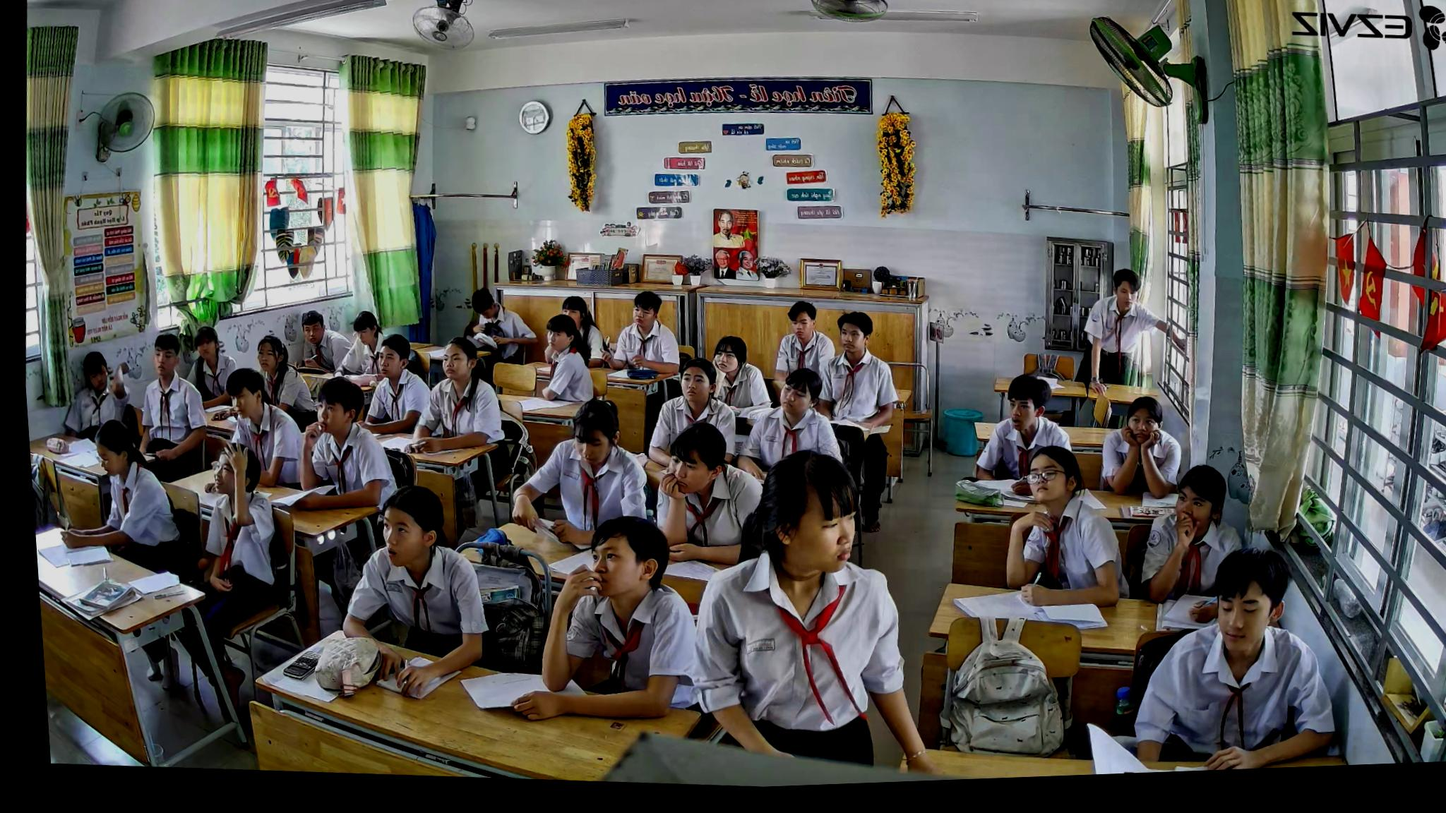person: (669, 437, 964, 787), (1115, 534, 1351, 773), (497, 505, 712, 734), (159, 438, 307, 720), (326, 477, 505, 697), (46, 413, 212, 590), (799, 307, 914, 536), (499, 393, 659, 554), (994, 439, 1138, 614), (1126, 458, 1257, 630), (637, 419, 773, 572), (1065, 263, 1198, 405), (285, 370, 405, 515), (964, 365, 1083, 500), (727, 362, 852, 486), (396, 332, 511, 461), (203, 363, 312, 496), (127, 330, 217, 487), (638, 353, 745, 479), (1091, 391, 1189, 503), (354, 330, 439, 441), (596, 286, 685, 377), (53, 350, 137, 444), (764, 297, 841, 398), (171, 323, 256, 413), (251, 333, 323, 432), (459, 284, 543, 368), (338, 307, 429, 381), (533, 311, 601, 407), (704, 333, 779, 420), (293, 309, 358, 380), (556, 294, 612, 370)
